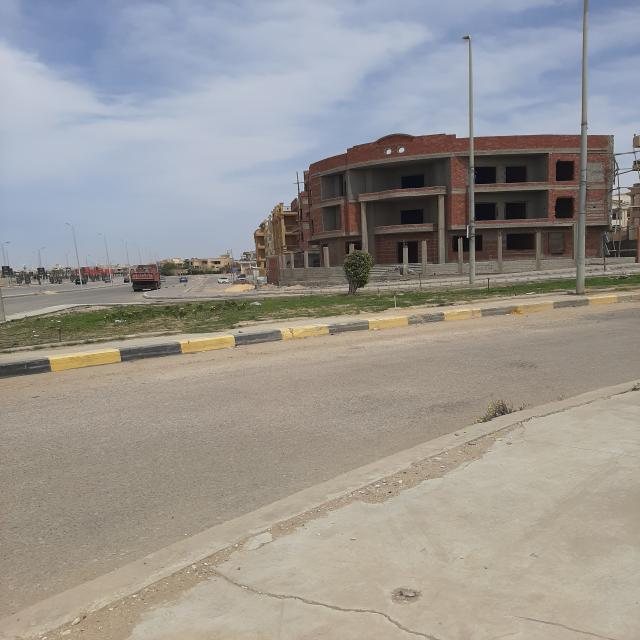Street Light: (461, 36, 478, 284)
